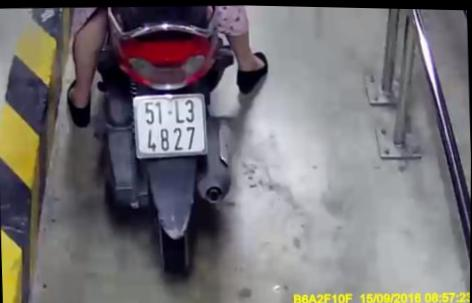LP: (130, 89, 210, 161)
